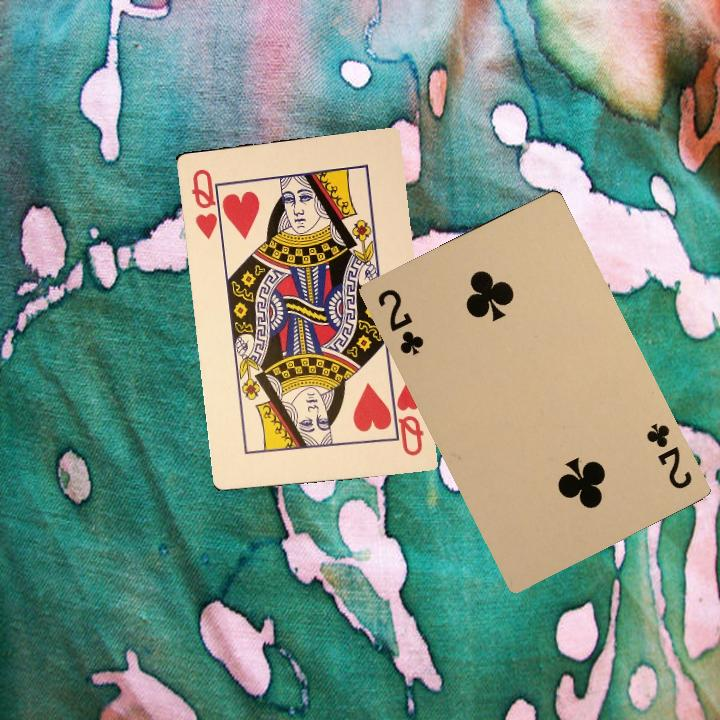2c: (373, 284, 427, 358), (642, 419, 695, 492)
Qh: (385, 380, 426, 459), (187, 164, 227, 241)
